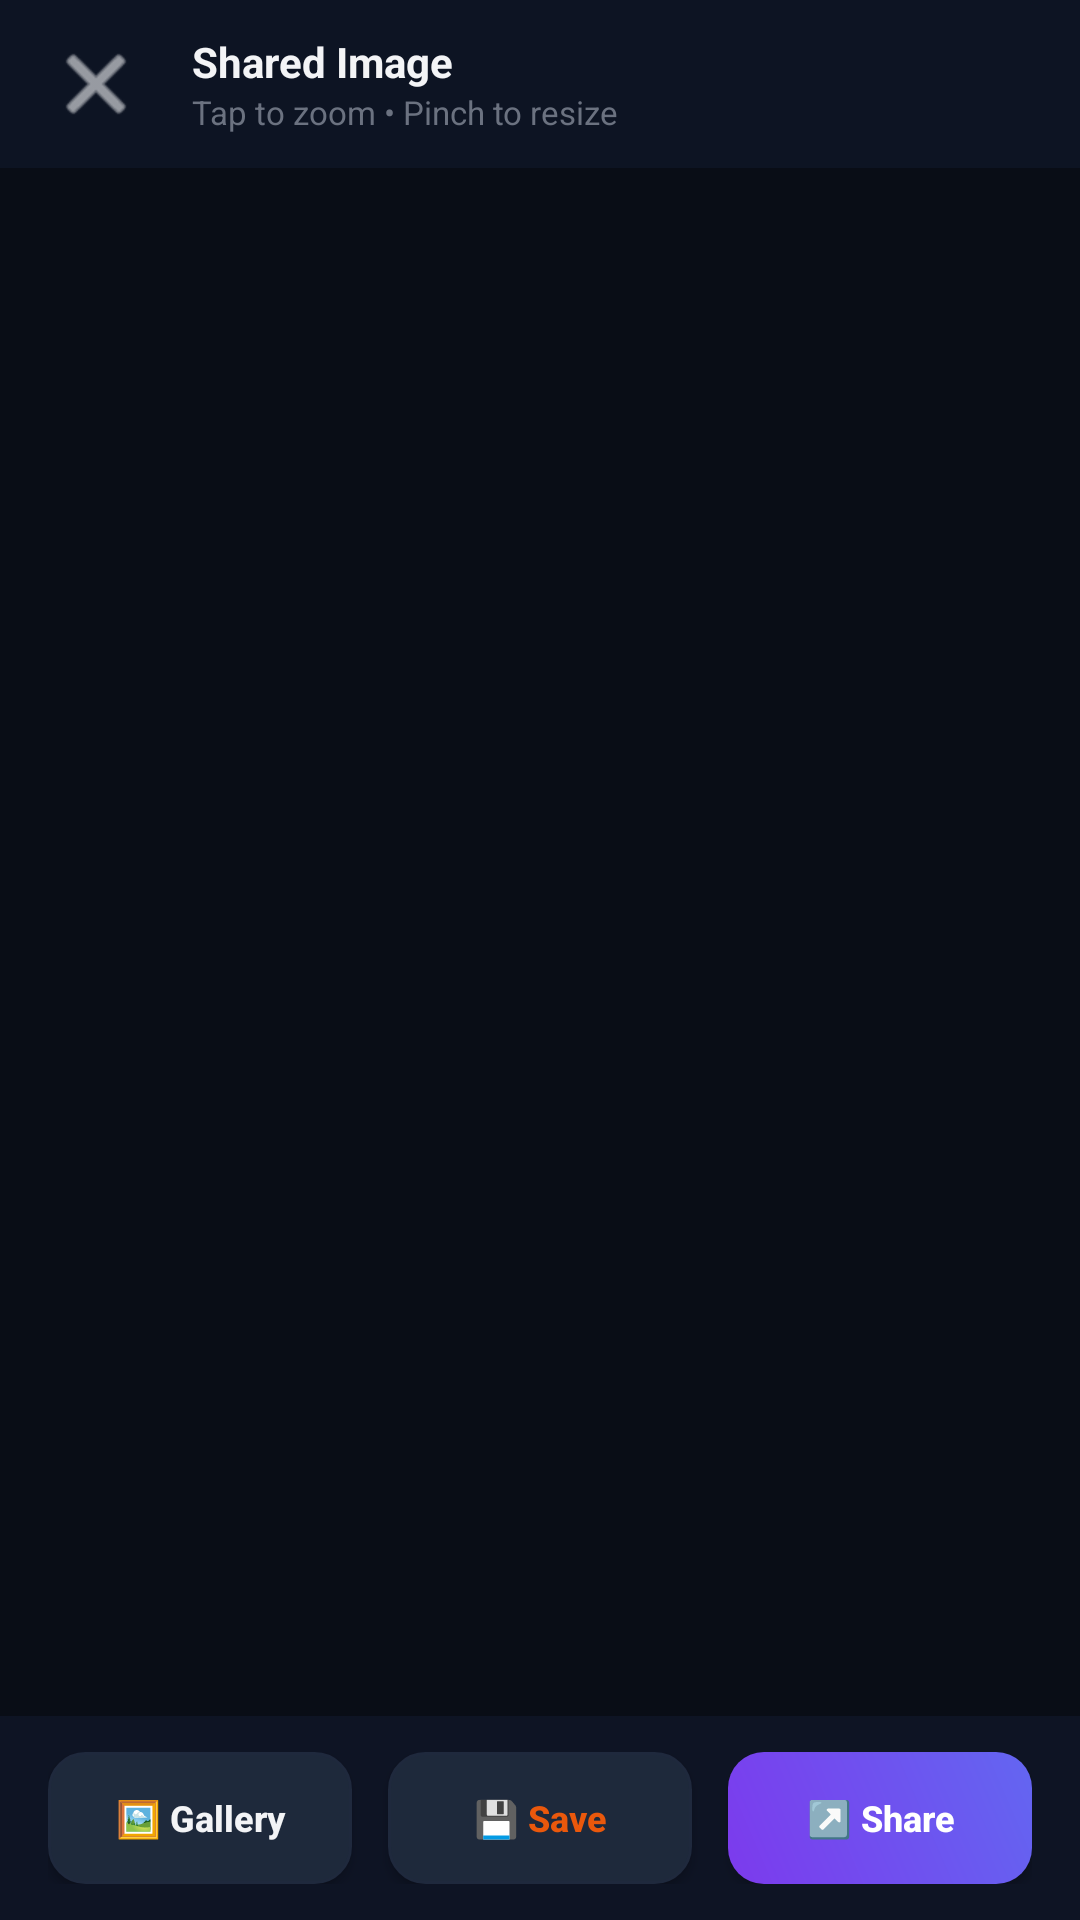

Where to tap for icons on this 1080 x 1920 app screen, as [x,y]:
Close viewer: [96,84]
